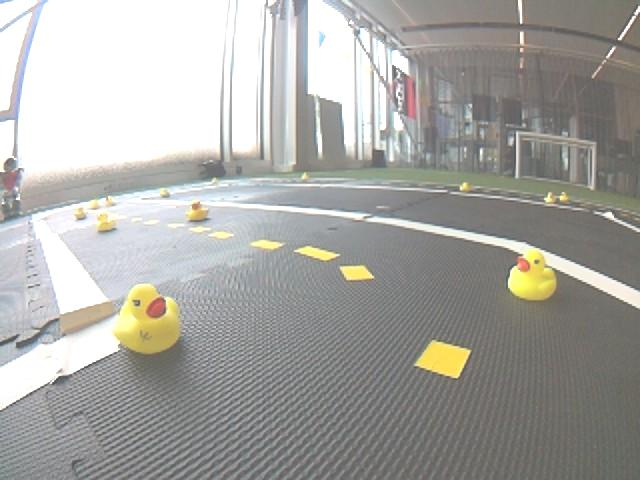Duckies: (109, 288, 183, 356), (508, 248, 556, 300), (186, 200, 209, 220), (95, 212, 117, 232), (73, 207, 87, 220), (104, 196, 115, 207), (545, 192, 555, 203), (460, 181, 471, 191), (89, 199, 100, 209), (559, 192, 570, 202), (159, 189, 169, 197), (302, 173, 309, 180), (211, 178, 218, 184)
